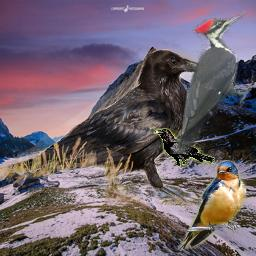Crow: (0, 49, 211, 207), (153, 128, 215, 166)
Swallow: (178, 160, 247, 251)
Woodpecker: (170, 11, 252, 154)
